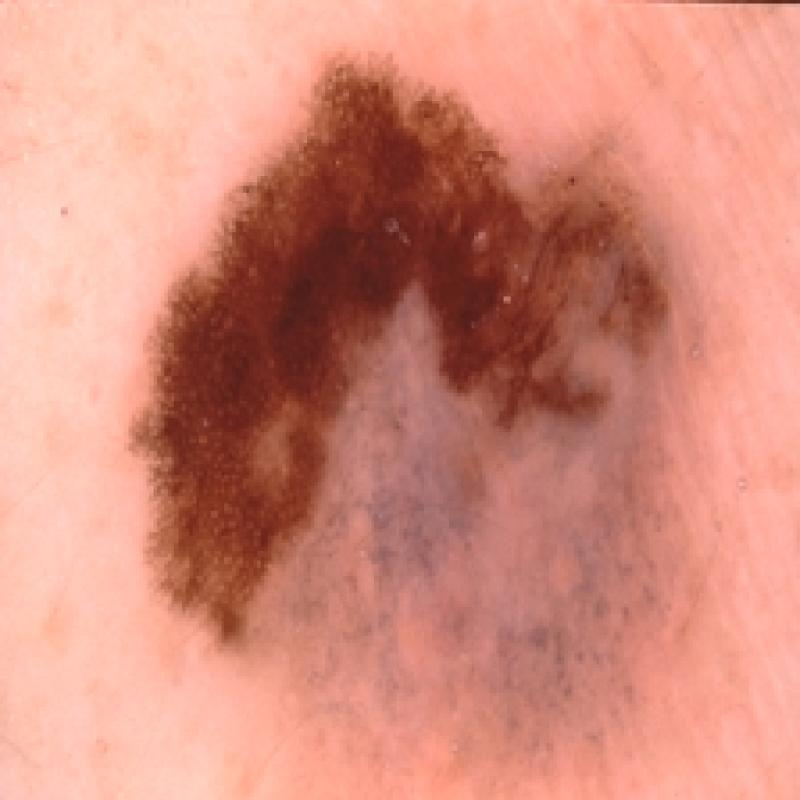malignant: (111, 44, 714, 768)
